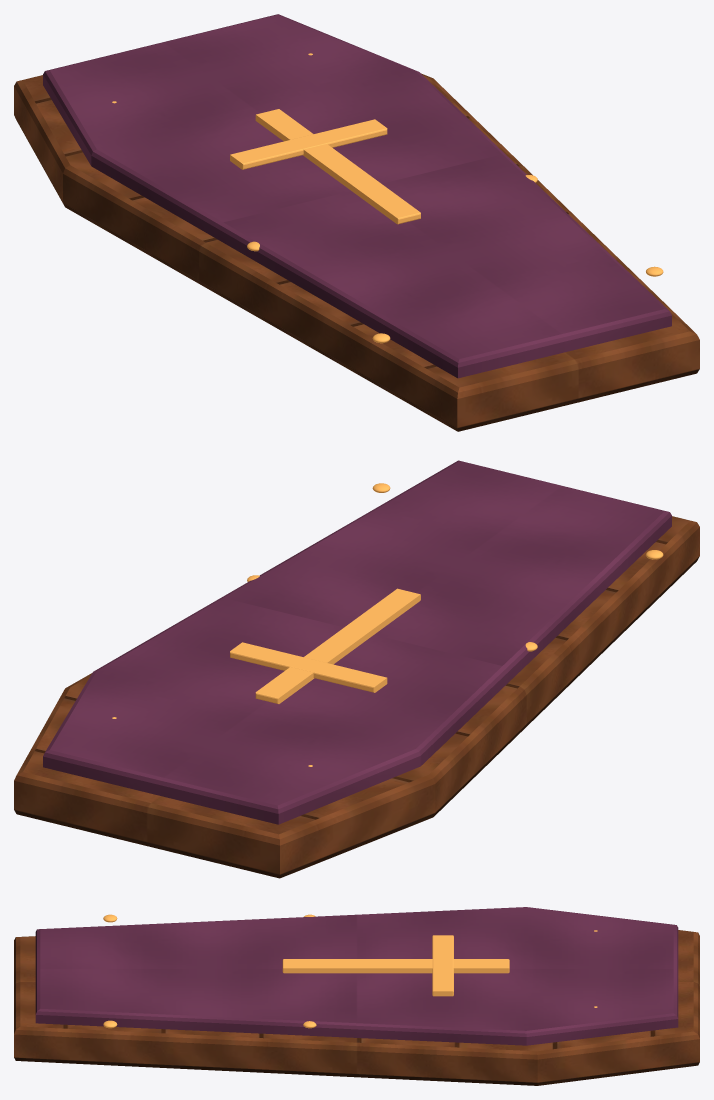
File: hollowwick-halloween-brass-trimmed-coffin-lid-b9191a5d__21630.glb
The picture shows the model from 3 angles, top to bottom: view 1: azimuth 30°, elevation 25°; view 2: azimuth 150°, elevation 25°; view 3: azimuth 270°, elevation 25°; orthographic projection. The views are drawn at different scales.
Visible parts, largest first — view 1: brass-trimmed-coffin-lid; view 2: brass-trimmed-coffin-lid; view 3: brass-trimmed-coffin-lid.
Boxes of the visible parts, box(x1,y1,x2,y2) form: brass-trimmed-coffin-lid: box(14, 14, 699, 431); brass-trimmed-coffin-lid: box(14, 460, 699, 878); brass-trimmed-coffin-lid: box(14, 907, 699, 1085).
Bounding box in the file's own units: 0.8724 × 0.149 × 1.75.
3 materials, 2 textured.
